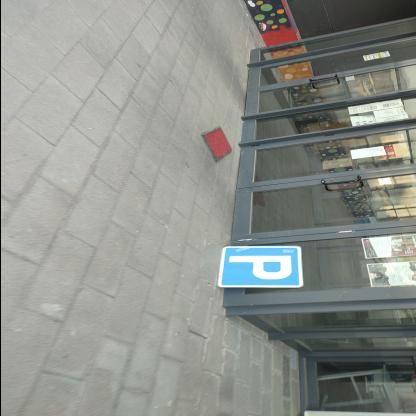Parking-Sign: (218, 246, 304, 289)
